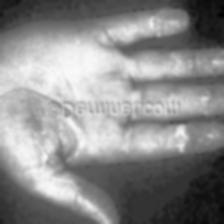Toxin: (37, 115, 86, 180), (204, 84, 224, 118)
